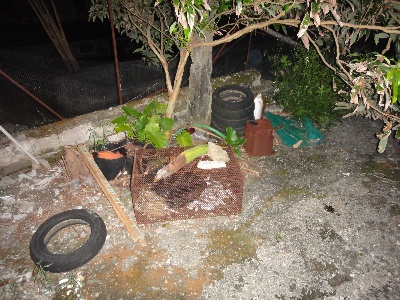bottle: (252, 91, 265, 121)
bucket: (242, 119, 274, 158)
tire: (30, 206, 108, 275), (212, 83, 254, 110), (211, 104, 255, 118), (212, 114, 255, 127)
